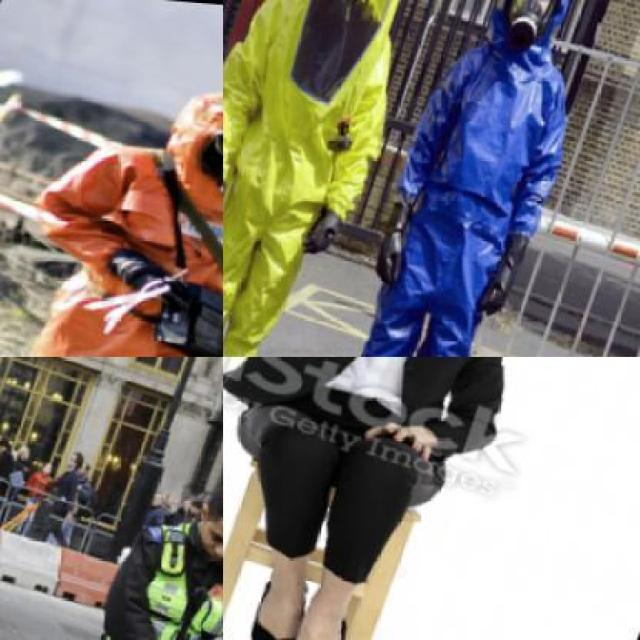Vest: (311, 8, 598, 355), (223, 0, 414, 355), (0, 111, 222, 355), (108, 504, 222, 638)
